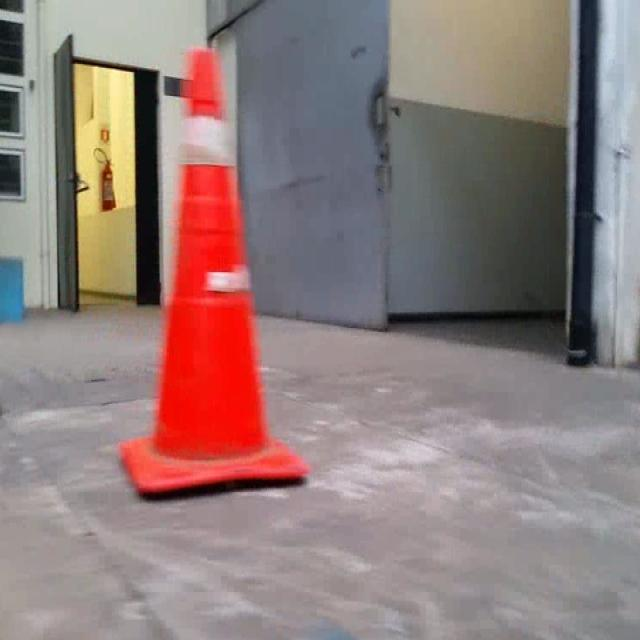cone: (115, 46, 309, 493)
